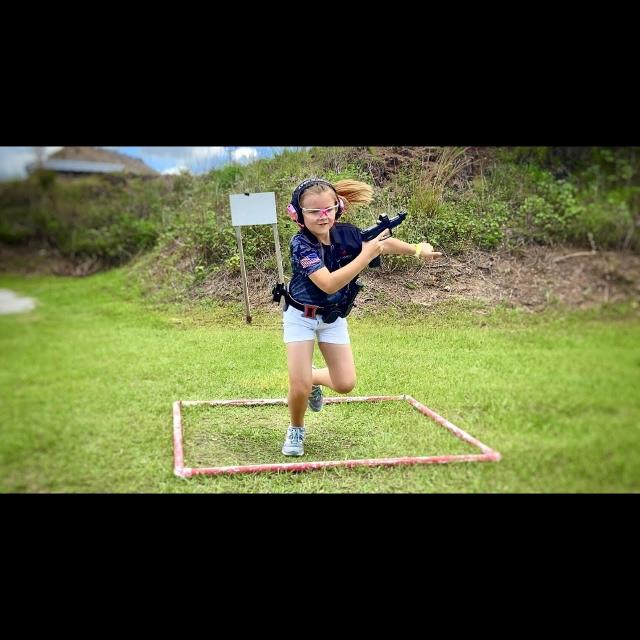handgun: (358, 208, 409, 242)
